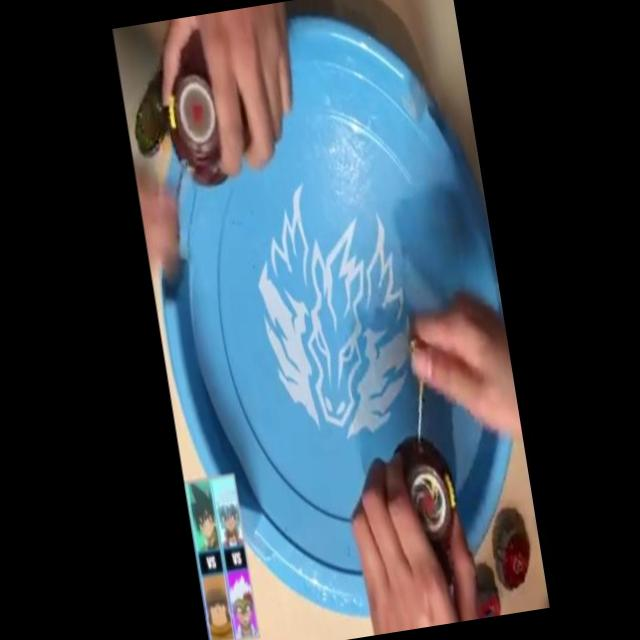Beyblade: (490, 524, 534, 592)
